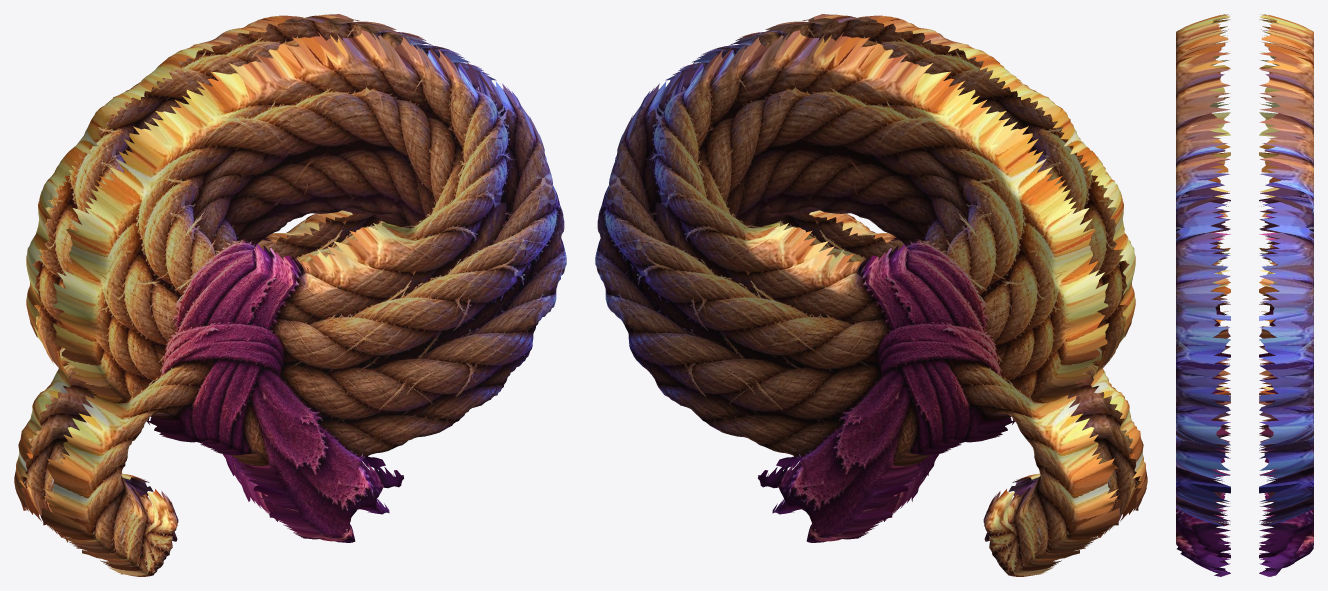
Rendered from v4-item-rope.glb.
3 views of the same model, side by side, from view 1: azimuth 30°, elevation 25°; view 2: azimuth 150°, elevation 25°; view 3: azimuth 270°, elevation 25° (orthographic).
Visible parts, largest first — view 1: v4-item-rope; view 2: v4-item-rope; view 3: v4-item-rope.
Boxes of the visible parts, x1,y1,x2,y2 form: v4-item-rope: [14, 14, 566, 576]; v4-item-rope: [595, 14, 1147, 576]; v4-item-rope: [1176, 14, 1313, 576].
Bounding box in the file's own units: 1.03 × 0.9808 × 0.24.
Materials: 1 (1 with a texture image).
